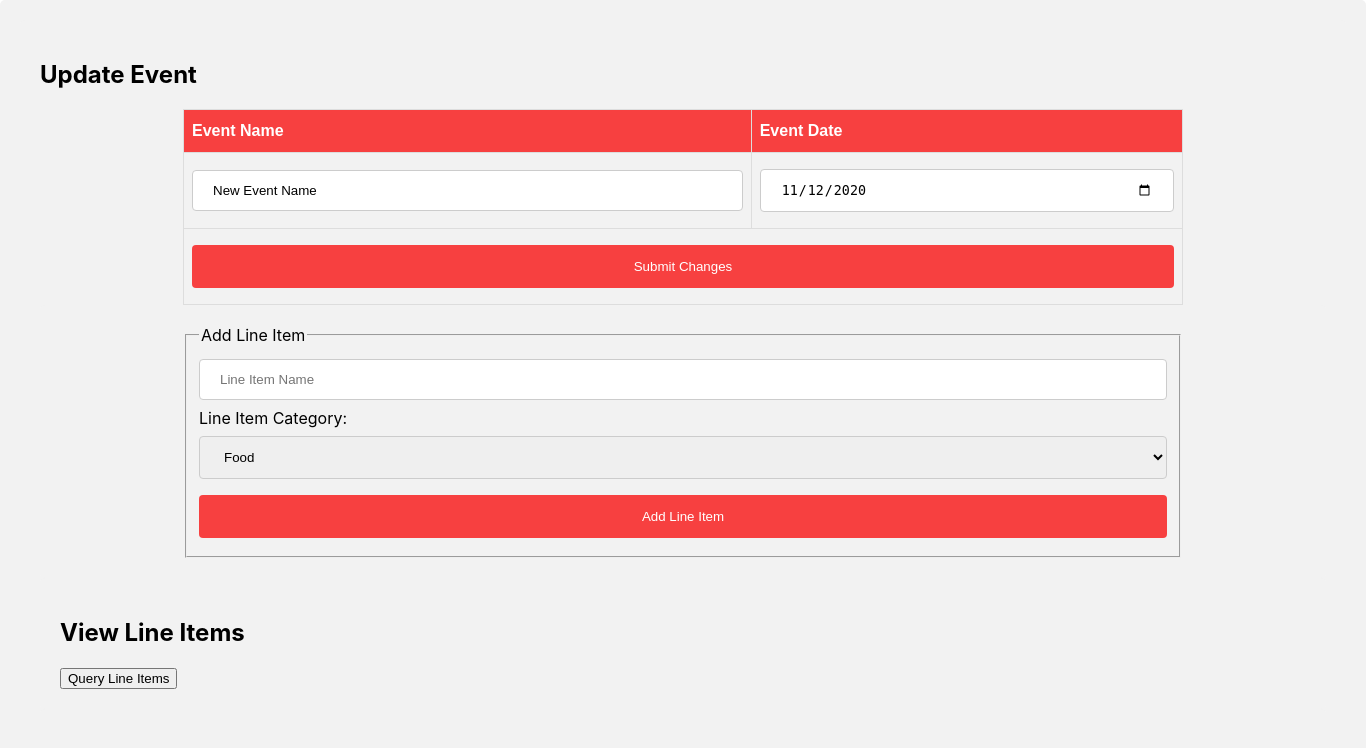
Test case: successfully displays error
Click the button "Submit Changes". click: click(683, 267)
box: [192, 245, 1174, 288]
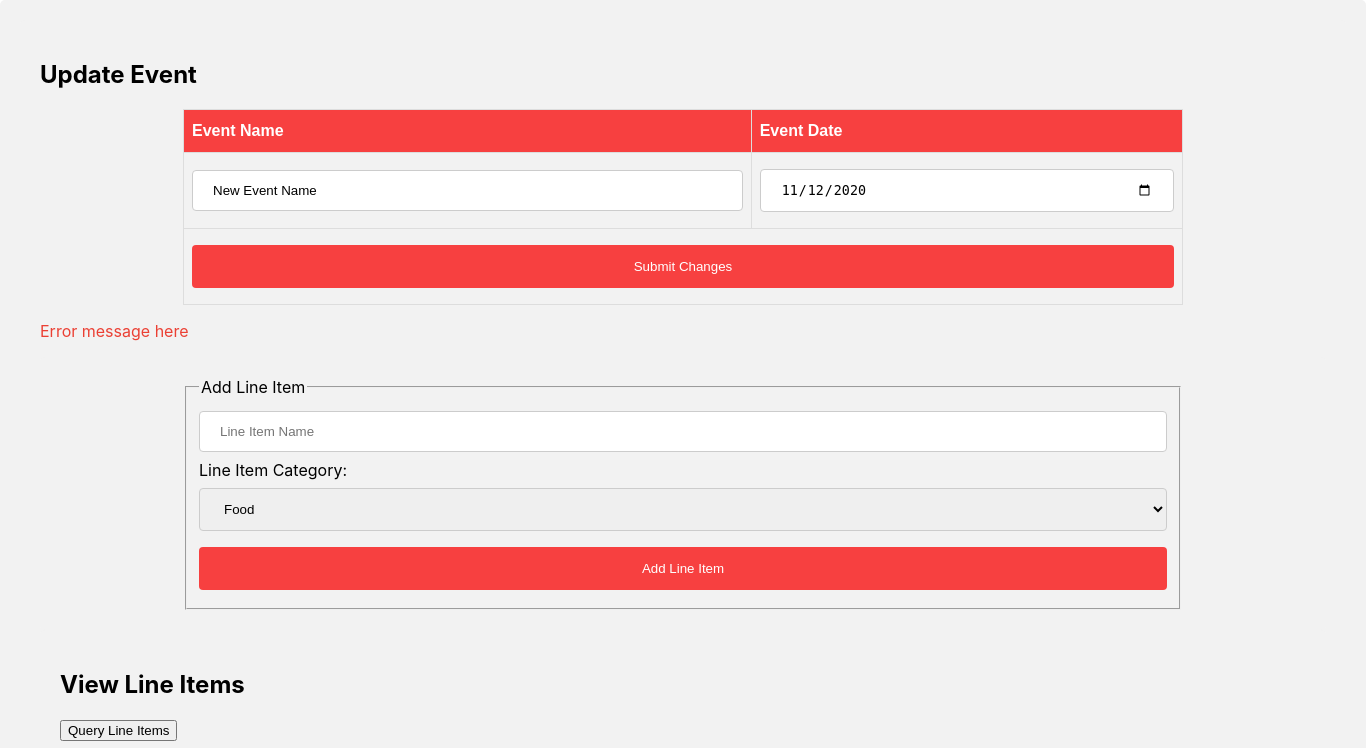
Check: the text "Error message here" is shown, box [40, 321, 188, 341]
